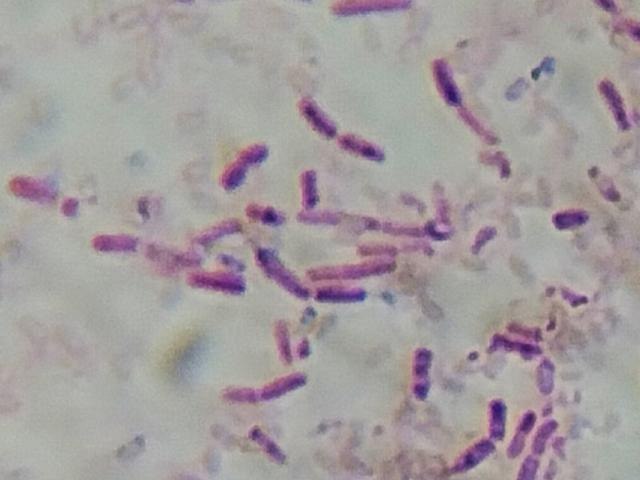E. coli: (222, 368, 307, 404), (254, 240, 304, 300), (10, 170, 74, 214), (224, 135, 271, 190), (307, 252, 402, 279), (596, 76, 631, 140), (524, 412, 558, 477), (188, 215, 244, 254), (267, 315, 304, 367), (246, 426, 288, 471), (186, 266, 243, 298), (299, 207, 376, 230), (430, 55, 462, 110), (333, 0, 416, 20), (339, 132, 388, 164), (486, 328, 535, 359), (600, 0, 640, 37), (298, 92, 336, 129), (585, 155, 621, 192), (506, 404, 530, 455), (413, 344, 432, 407), (548, 204, 586, 235), (486, 395, 511, 441), (318, 286, 369, 308), (94, 226, 134, 253), (392, 220, 437, 243), (535, 350, 559, 393), (250, 195, 275, 222), (304, 164, 322, 198), (362, 238, 389, 258)
